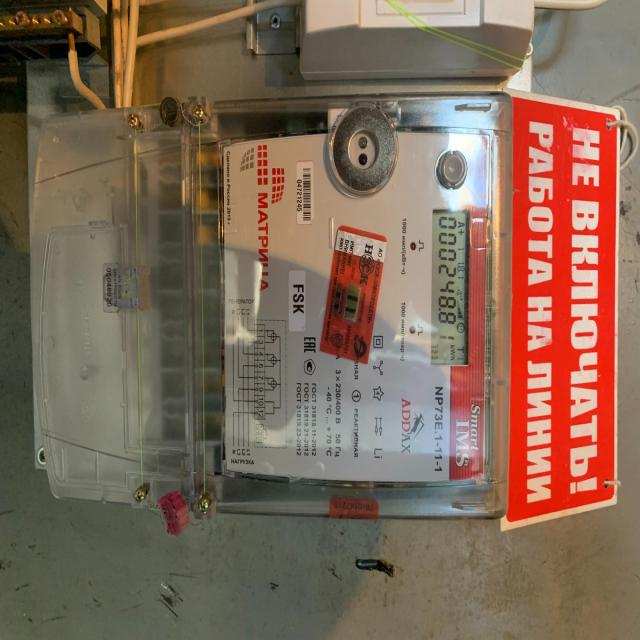Display: (429, 203, 471, 366)
meter_matrica: (90, 89, 510, 530)
meter_number: (291, 151, 317, 229)
seal_elso: (95, 261, 152, 313)
seal_imp: (317, 226, 389, 368)
